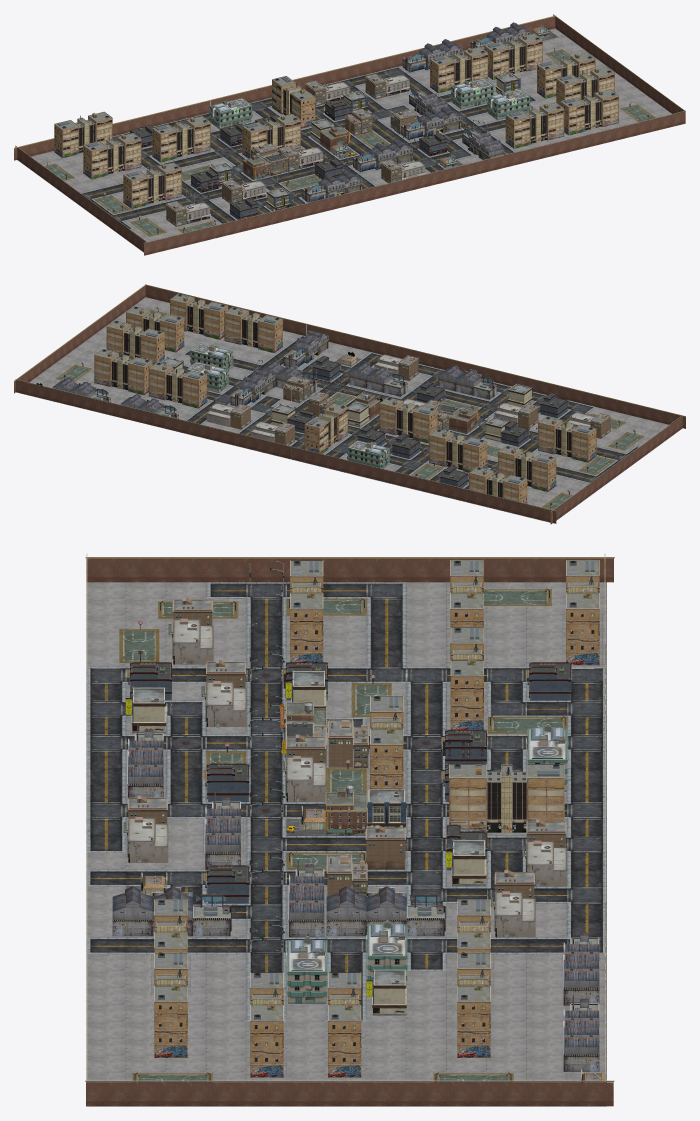
The model's file is Mapa_op.glb.
3 views of the same model, one above another, from view 1: azimuth 30°, elevation 25°; view 2: azimuth 150°, elevation 25°; view 3: azimuth 270°, elevation 25° (orthographic). The views are drawn at different scales.
Visible parts, largest first — view 1: BD_ConcreteBlock1, LM_Clinic2.002, LM_Clinic2.001, LM_Clinic2, pasted__pCube27.015, pasted__pCube27, pasted__pCube20.004, pasted__pCube27.013, pasted__pCube27.009, pasted__pCube27.010, pasted__pCube27.008, pasted__pCube27.017 (+21 smaller); view 2: BD_ConcreteBlock1, LM_Clinic2.002, LM_Clinic2, LM_Clinic2.001, pasted__pCube27, pasted__pCube27.010, pasted__pCube27.013, pasted__pCube27.008, pasted__pCube27.015, pasted__pCube27.017, pasted__pCube27.001, pasted__pCube27.004 (+23 smaller); view 3: BD_ConcreteBlock1, LM_Clinic2, pasted__pCube20.004, pasted__pCube27.004, LM_Clinic2.001, pasted__pCube20.016, pasted__pCube20.001, pasted__pCube20.009, pasted__pCube20.014, pasted__pCube20.018, pasted__pCube20.008, pasted__pCube20 (+25 smaller).
Boxes of the visible parts, x1=… form: BD_ConcreteBlock1: x1=17, y1=28, x2=671, y2=252; LM_Clinic2.002: x1=209, y1=98, x2=252, y2=129; LM_Clinic2.001: x1=451, y1=78, x2=494, y2=109; LM_Clinic2: x1=487, y1=89, x2=530, y2=120; pasted__pCube27.015: x1=505, y1=110, x2=530, y2=142; pasted__pCube27: x1=123, y1=170, x2=148, y2=202; pasted__pCube20.004: x1=291, y1=90, x2=315, y2=121; pasted__pCube27.013: x1=430, y1=55, x2=454, y2=86; pasted__pCube27.009: x1=54, y1=120, x2=78, y2=151; pasted__pCube27.010: x1=83, y1=141, x2=107, y2=172; pasted__pCube27.008: x1=152, y1=124, x2=176, y2=155; pasted__pCube27.017: x1=537, y1=60, x2=561, y2=91; BD_ConcreteBlock1: x1=16, y1=297, x2=682, y2=522; LM_Clinic2.002: x1=347, y1=440, x2=390, y2=468; LM_Clinic2: x1=190, y1=343, x2=233, y2=369; LM_Clinic2.001: x1=186, y1=362, x2=229, y2=392; pasted__pCube27: x1=571, y1=424, x2=596, y2=455; pasted__pCube27.010: x1=531, y1=454, x2=556, y2=485; pasted__pCube27.013: x1=182, y1=370, x2=207, y2=401; pasted__pCube27.008: x1=462, y1=437, x2=487, y2=467; pasted__pCube27.015: x1=258, y1=315, x2=282, y2=346; pasted__pCube27.017: x1=140, y1=328, x2=164, y2=359; pasted__pCube27.001: x1=413, y1=405, x2=437, y2=436; pasted__pCube27.004: x1=304, y1=417, x2=328, y2=449; BD_ConcreteBlock1: x1=86, y1=582, x2=606, y2=1106; LM_Clinic2: x1=286, y1=936, x2=327, y2=1003; pasted__pCube20.004: x1=449, y1=764, x2=486, y2=821; pasted__pCube27.004: x1=527, y1=764, x2=564, y2=821; LM_Clinic2.001: x1=366, y1=920, x2=407, y2=987; pasted__pCube20.016: x1=154, y1=985, x2=187, y2=1044; pasted__pCube20.001: x1=370, y1=728, x2=403, y2=787; pasted__pCube20.009: x1=566, y1=593, x2=599, y2=652; pasted__pCube20.014: x1=457, y1=985, x2=490, y2=1044; pasted__pCube20.018: x1=250, y1=1005, x2=283, y2=1064; pasted__pCube20.008: x1=450, y1=660, x2=483, y2=719; pasted__pCube20: x1=290, y1=593, x2=323, y2=652.
Bounding box in the file's own units: 562 × 31.96 × 238.
Materials: 23 (19 with a texture image).
